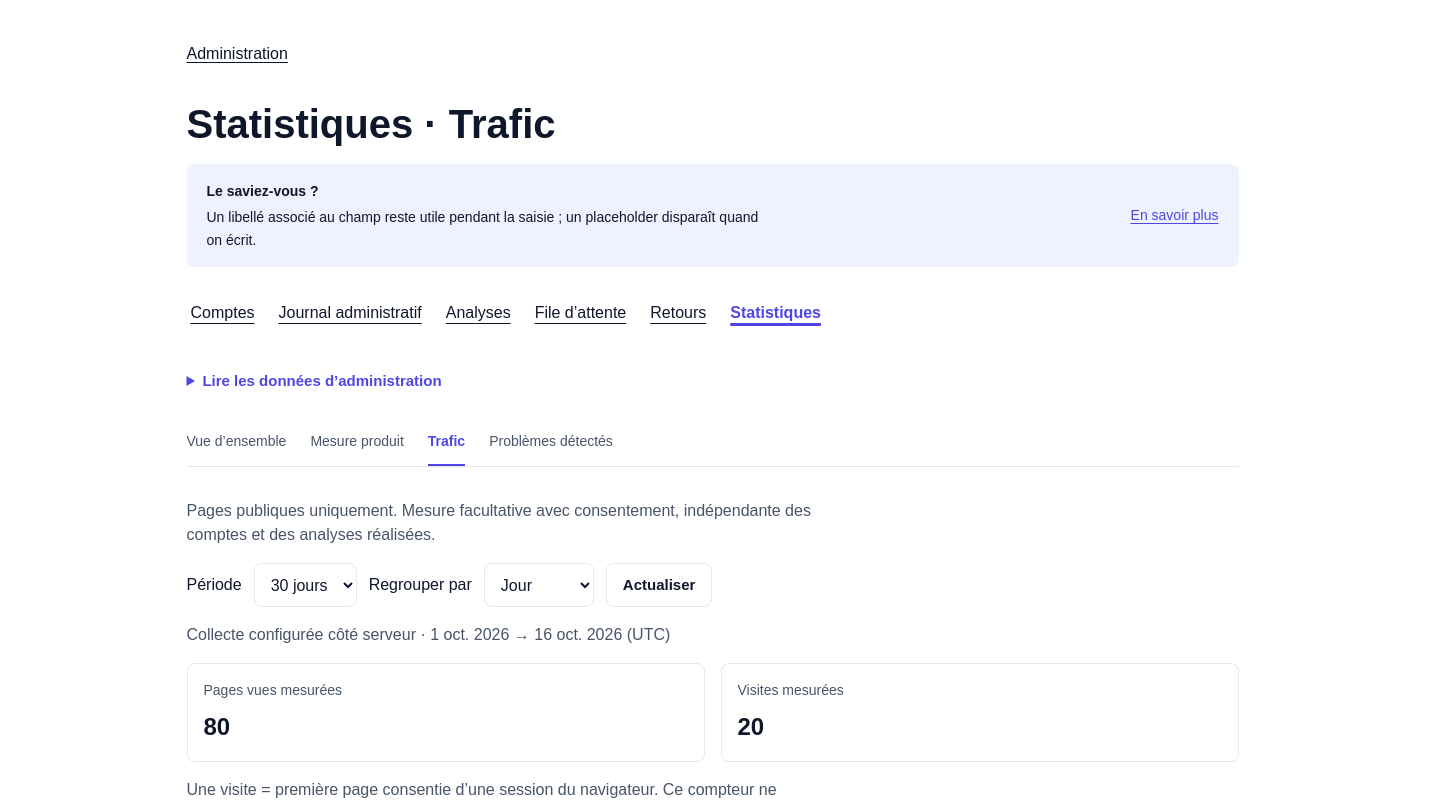
Test case: keeps audience separate, changes periods/grouping and exposes read errors
Expected: the text "80" is shown, [204,713,230,740]
Select "7 jours" in the dropdown labelled "Période": (305, 585) [254,563,357,607]
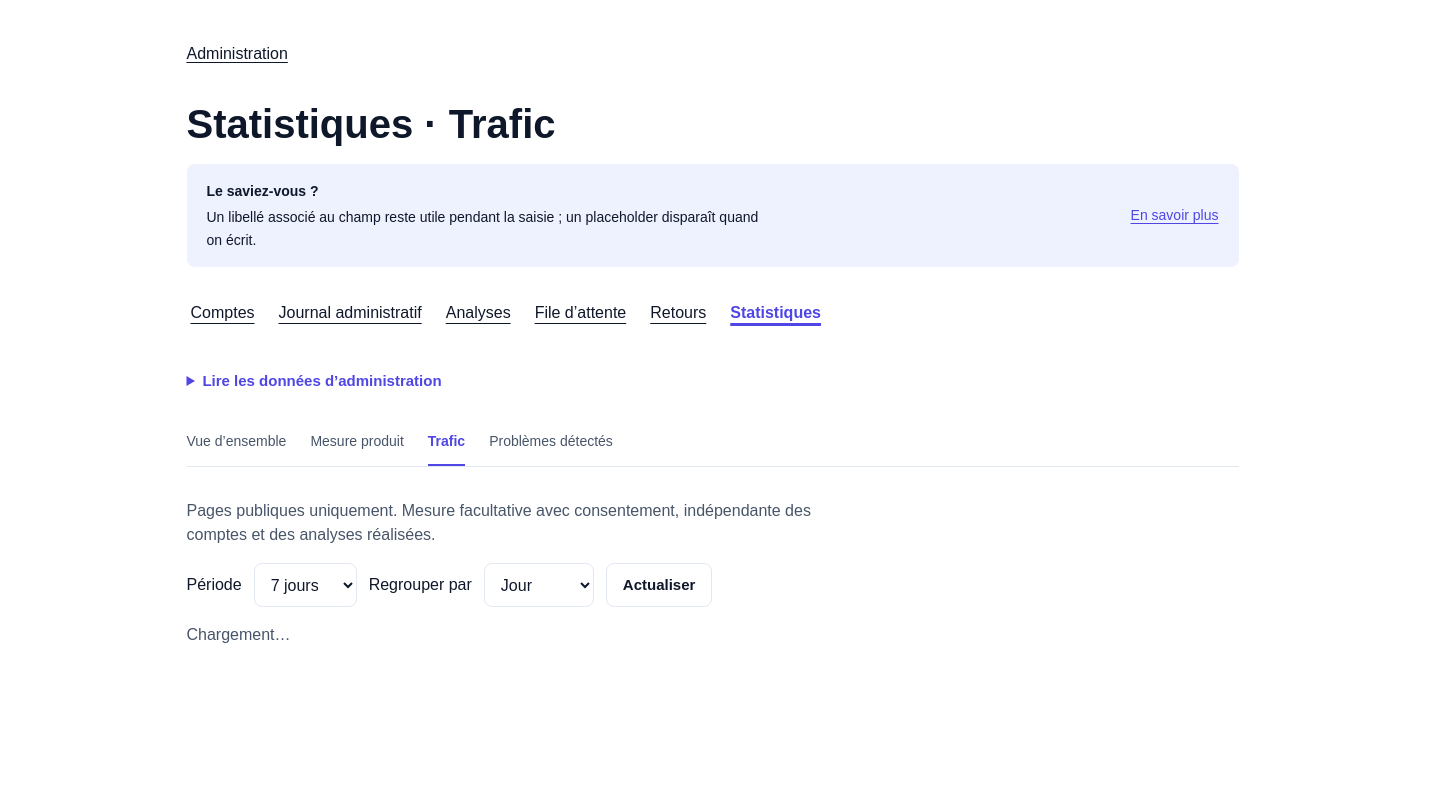
Select "Mois" in the dropdown labelled "Regrouper par": (539, 585) [484,563,594,607]
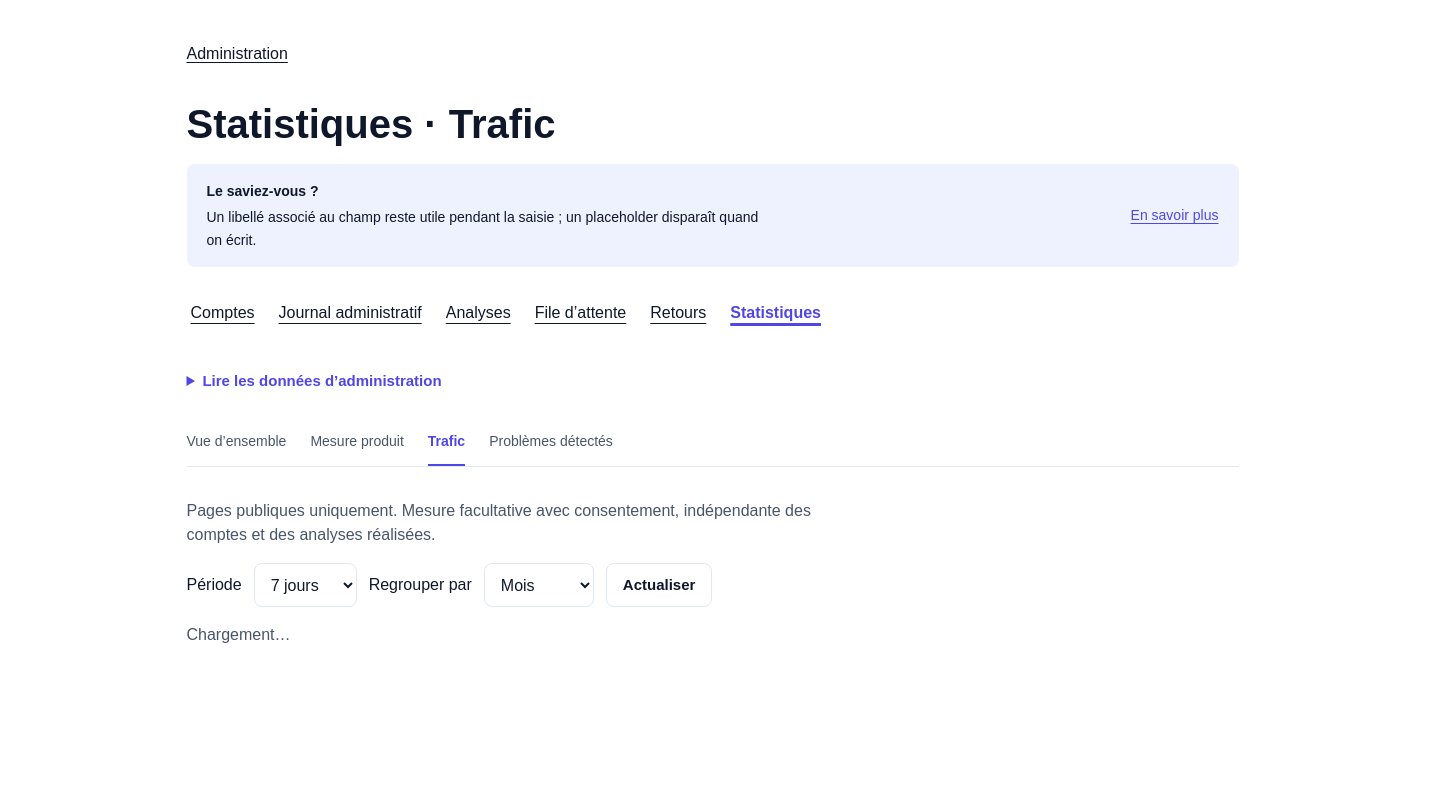
Click the button "Actualiser": click(659, 585) [606,563,712,607]
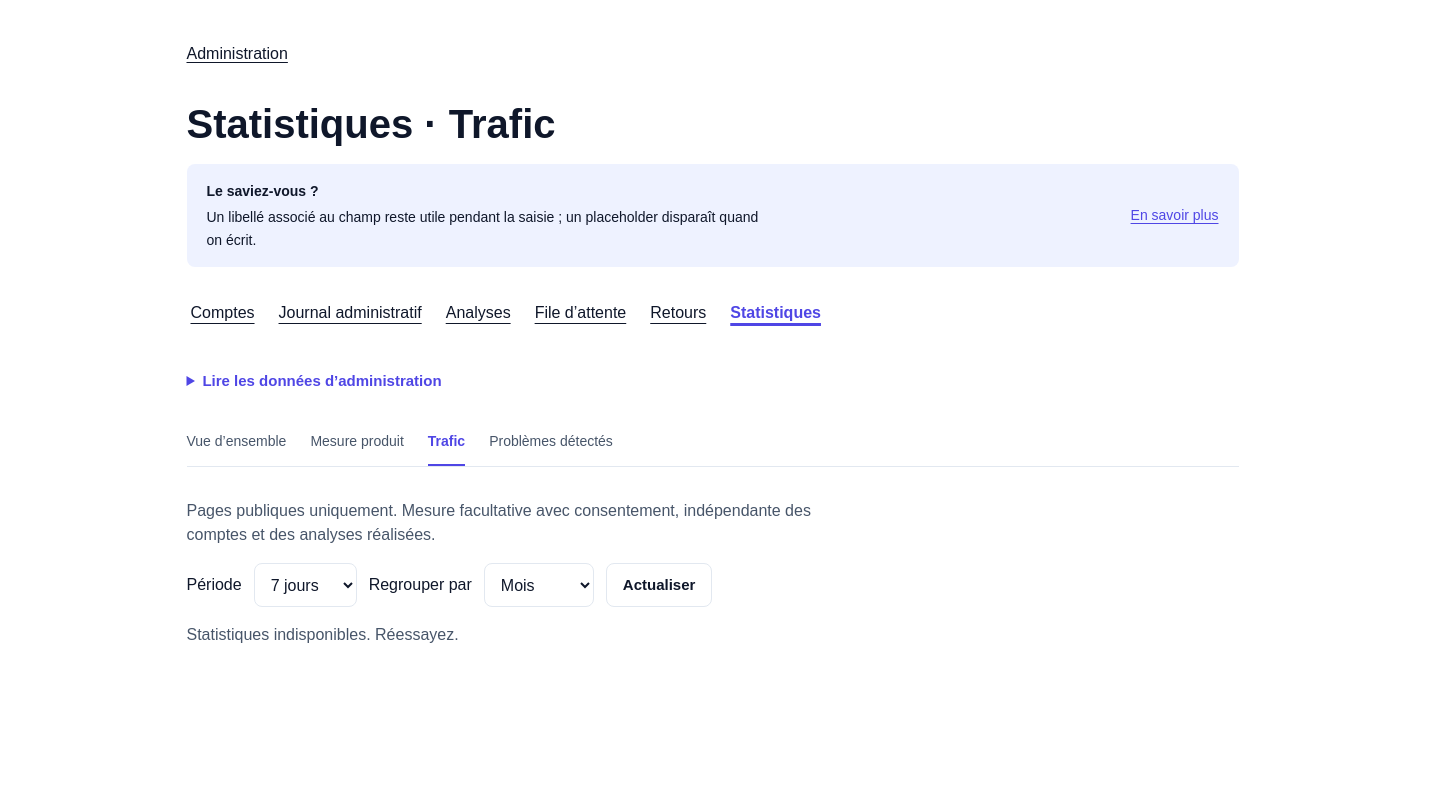
Now the message shows "indisponibles", box [186,626,459,643]
